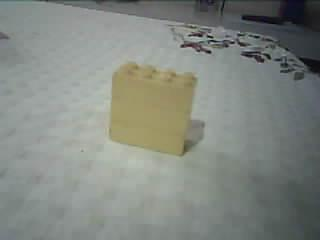lego: (106, 60, 198, 156)
